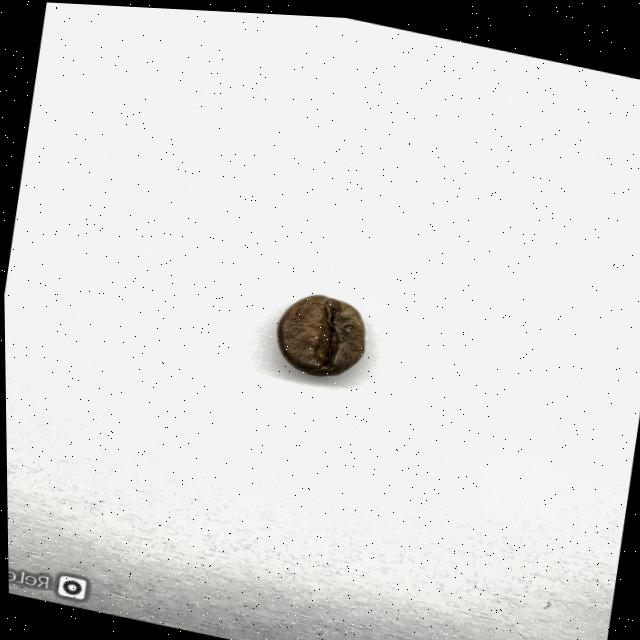Black: (269, 283, 372, 383)
